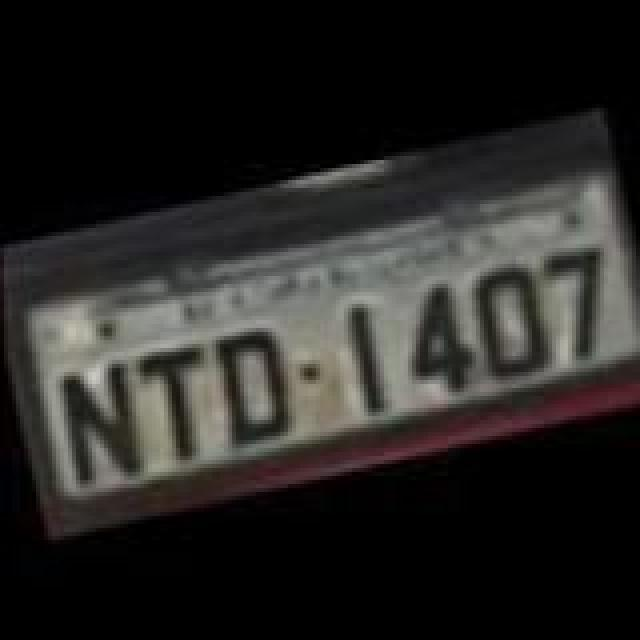1: (330, 294, 398, 422)
4: (388, 272, 480, 408)
7: (532, 232, 624, 360)
D: (206, 310, 298, 446)
N: (46, 350, 150, 490)
O: (460, 250, 552, 386)
T: (122, 336, 222, 468)
